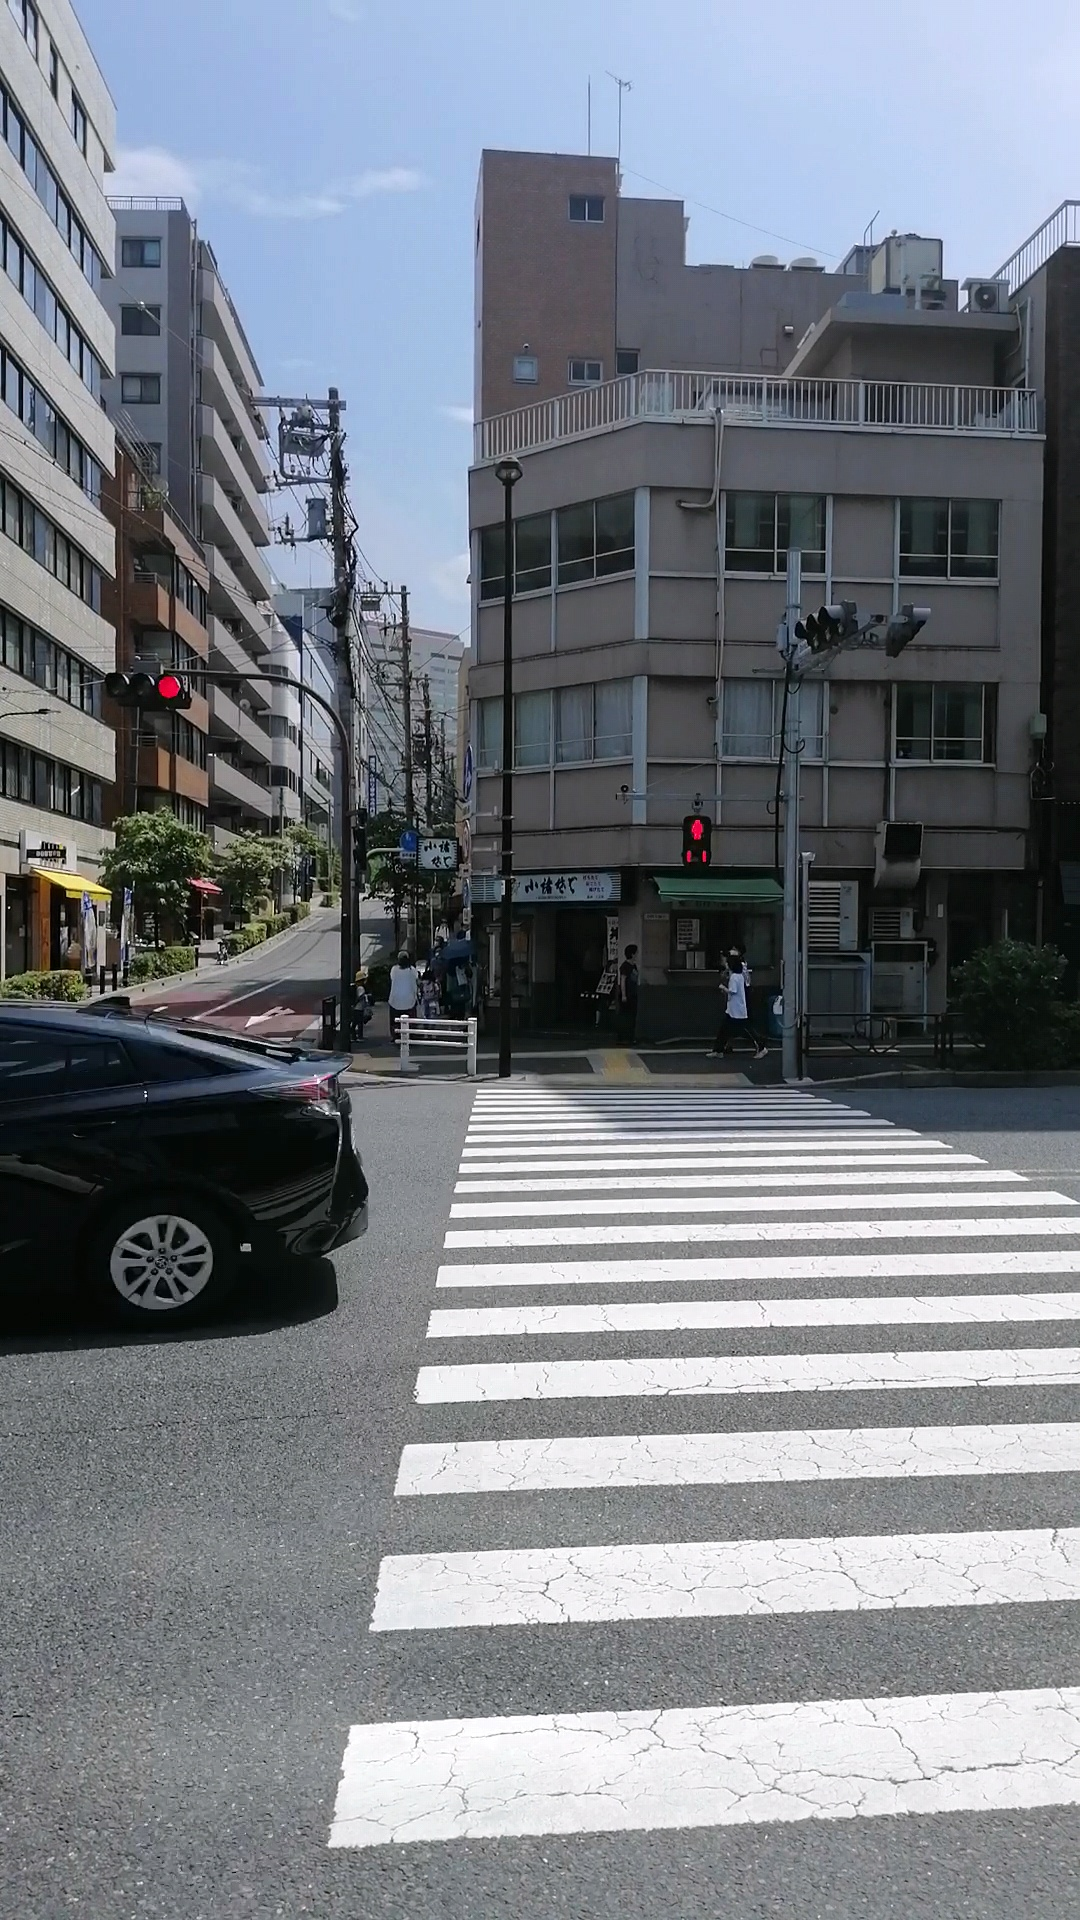red: (680, 816, 711, 868)
